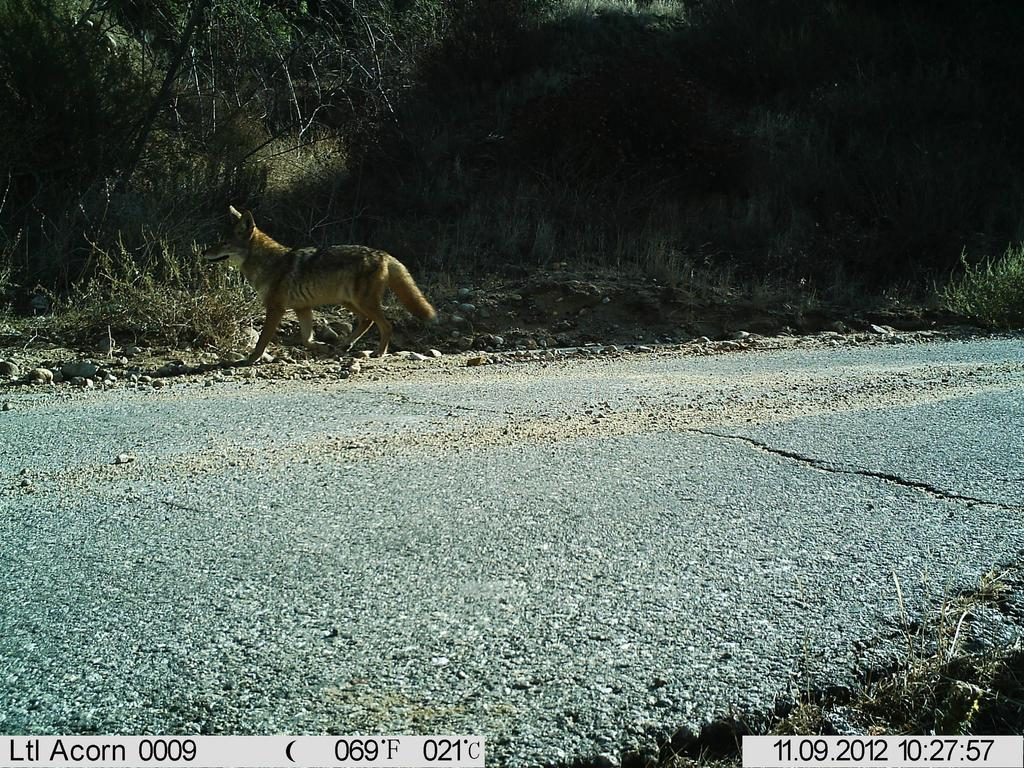coyote: (199, 201, 443, 373)
